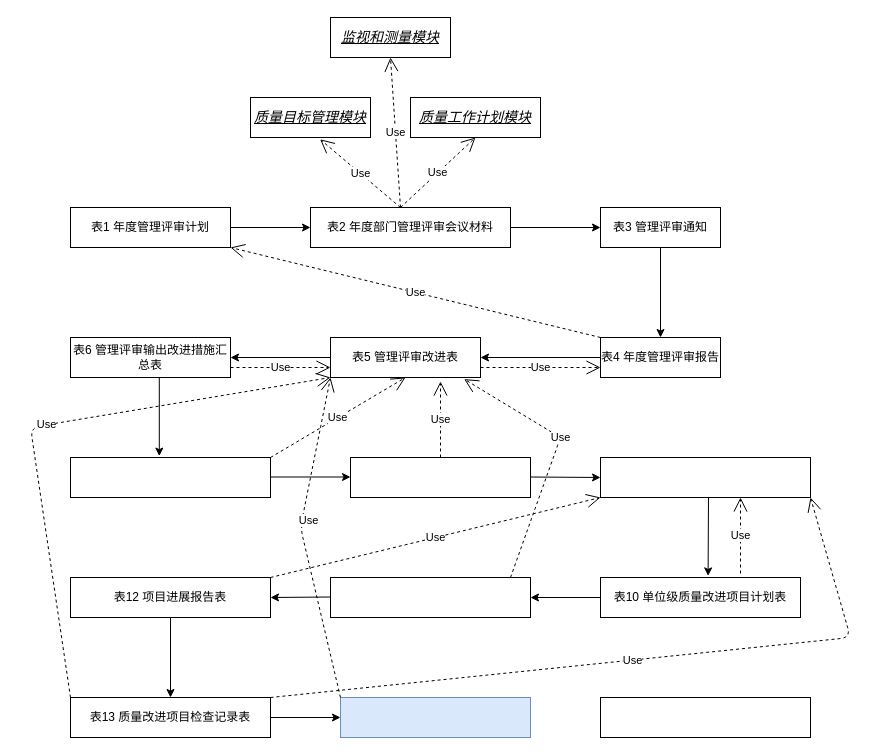
The diagram is 882 pixels wide and 755 high, and some of its shapes have lost their labels. The centre of each missing label's shape, as x and y in pixels:
"表11 质量改进项目实施方案" belongs at point 430,597.
"表14 改进项目总结报告" belongs at point 435,717.
"表15 QC小组活动登记表" belongs at point 705,717.
"表7 厂级质量改进项目计划表" belongs at point 170,477.
"表8 质量改进项目实施方案" belongs at point 440,477.
"表9 单位级质量改进项目申报表" belongs at point 705,477.
